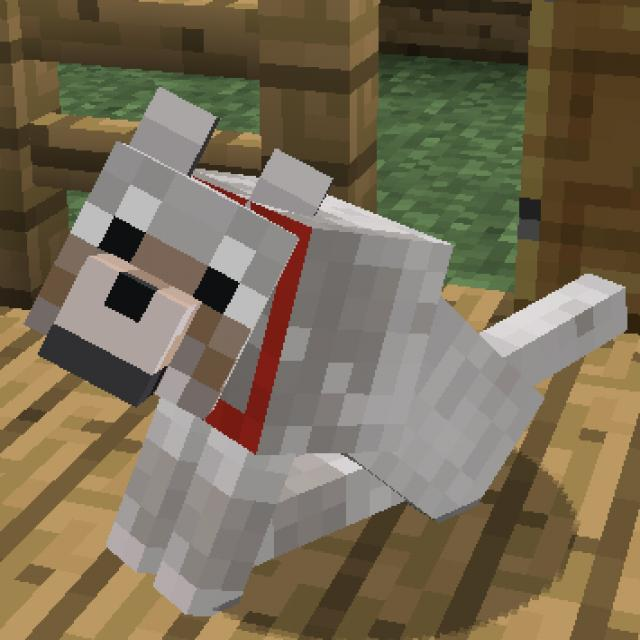Wolf: (25, 87, 629, 616)
